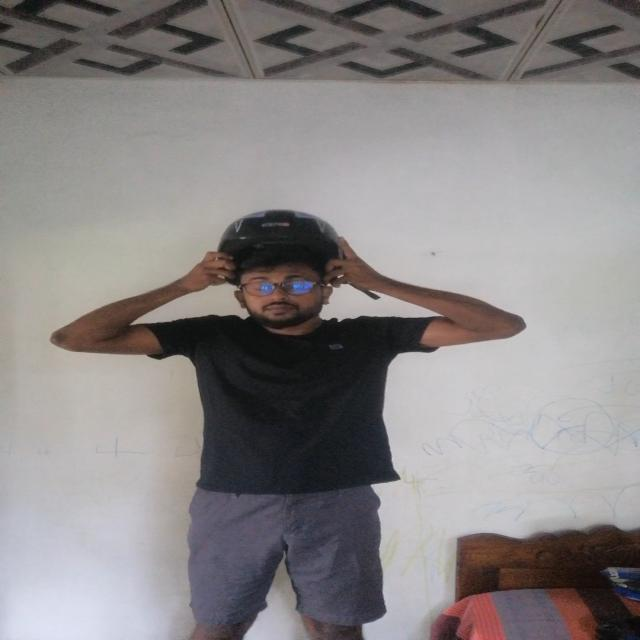Helmet_Wearer: (185, 206, 381, 332)
Person: (49, 211, 530, 639)
